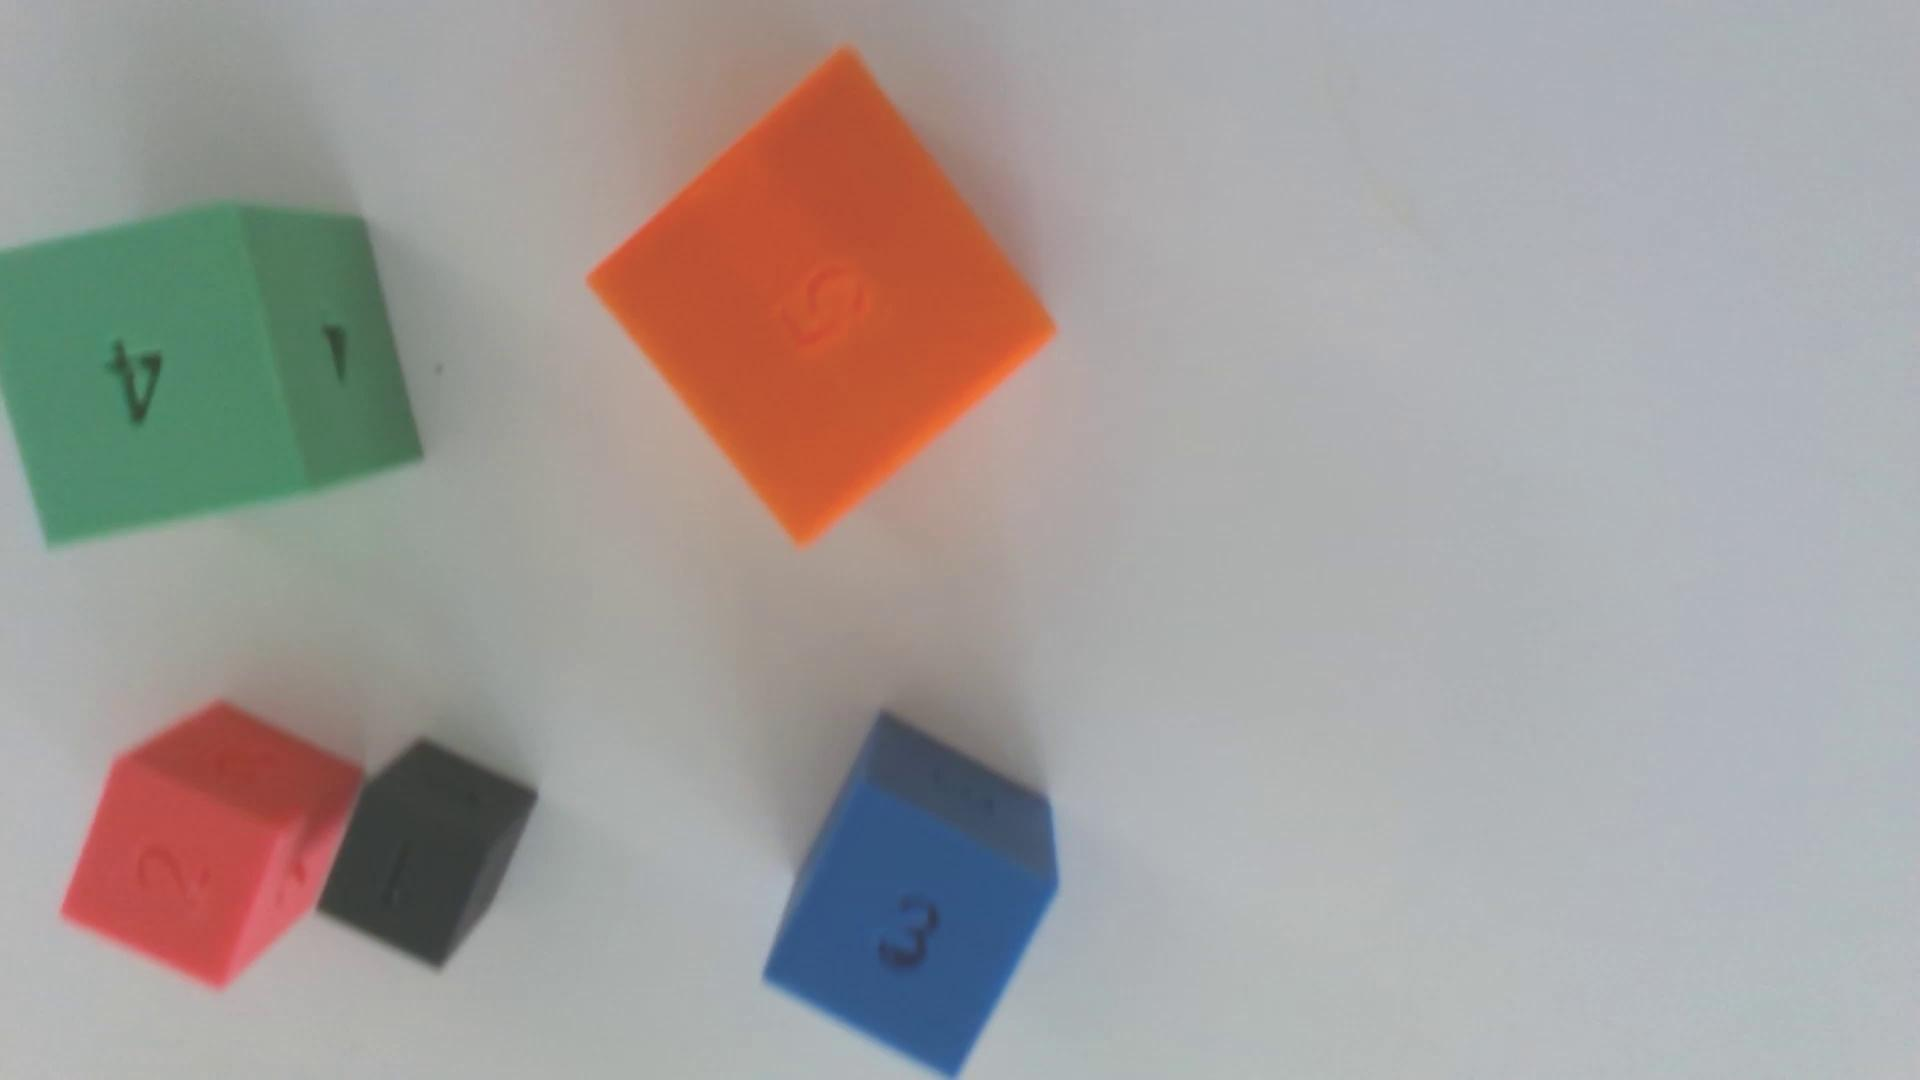black: (319, 738, 538, 968)
blue: (764, 715, 1059, 1080)
green: (0, 204, 422, 545)
orange: (589, 50, 1054, 543)
red: (62, 702, 363, 986)
